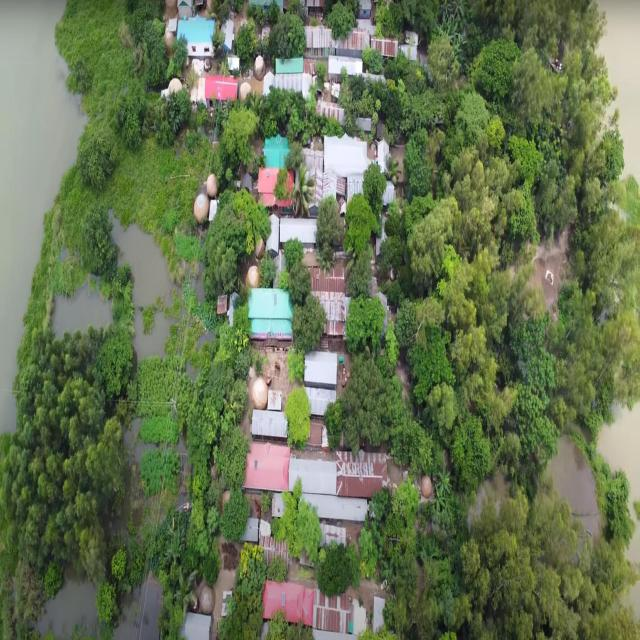flood: (0, 0, 85, 431), (114, 219, 171, 357), (602, 0, 640, 178), (552, 438, 601, 534), (600, 402, 640, 499), (40, 577, 95, 636), (52, 281, 111, 332), (115, 579, 160, 638), (469, 471, 510, 523), (628, 519, 640, 564), (626, 580, 640, 618)
house: (311, 251, 346, 339), (246, 286, 293, 350), (262, 574, 312, 634), (334, 450, 391, 502), (241, 438, 291, 495), (309, 589, 357, 640), (255, 164, 298, 216), (176, 11, 216, 60), (204, 65, 242, 112), (327, 53, 363, 93), (336, 23, 369, 57), (274, 60, 306, 94), (306, 20, 337, 54), (370, 29, 400, 63), (264, 137, 290, 169)
